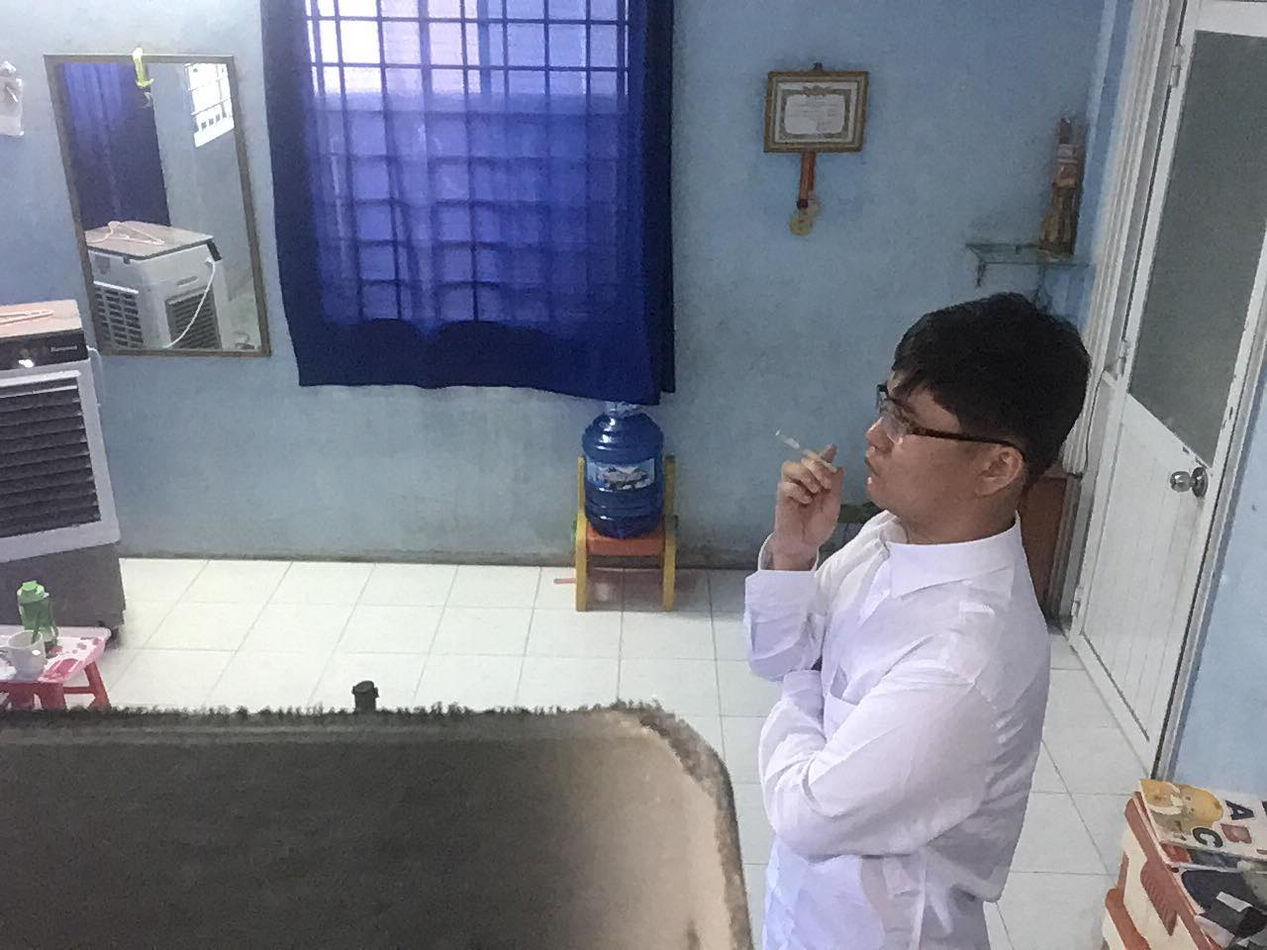cigarette: (775, 428, 848, 472)
person: (709, 269, 1113, 950)
